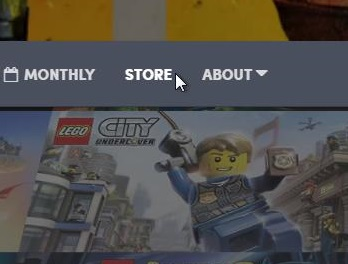cursor: (174, 71, 187, 93)
